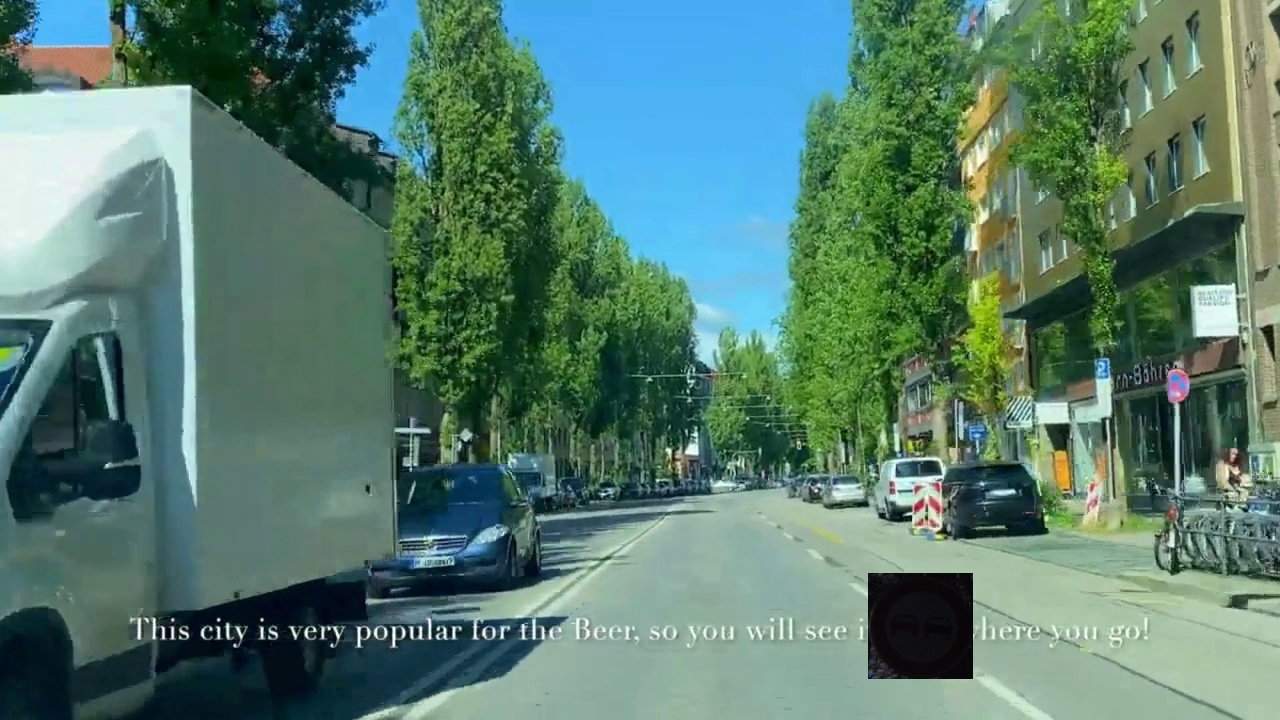No passing: (868, 573, 973, 679)
